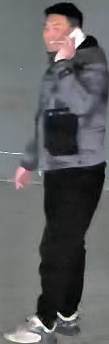phone: (42, 20, 106, 122)
